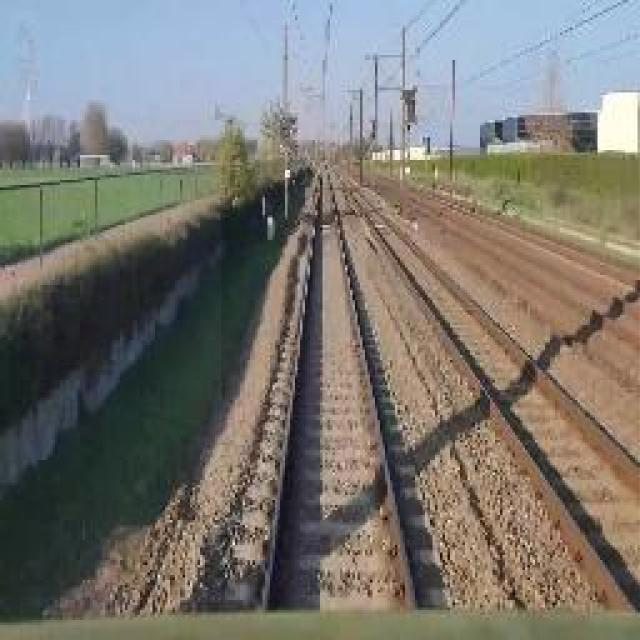rail: (222, 159, 640, 615)
